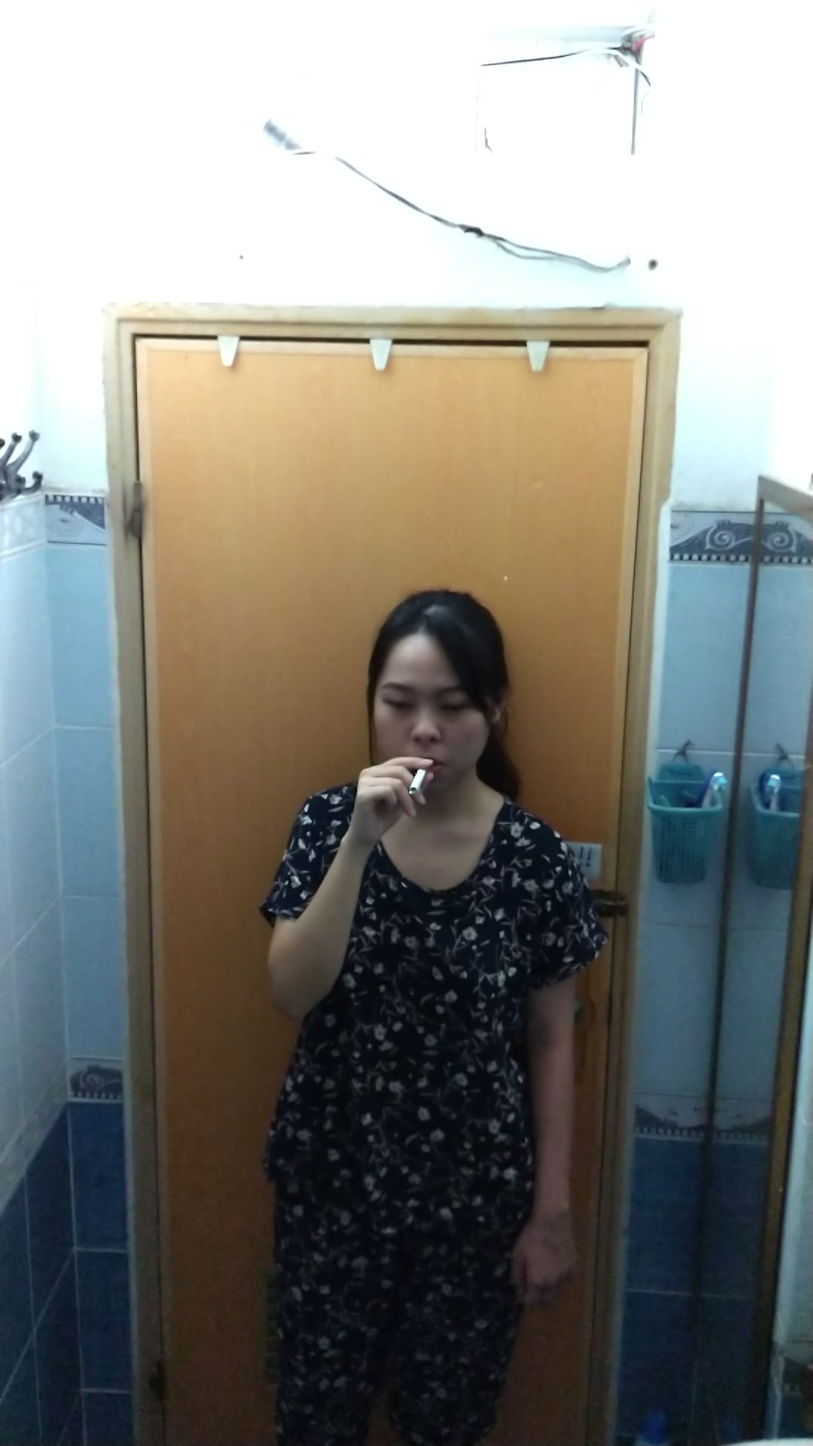cigarette: (404, 767, 431, 797)
person: (255, 576, 613, 1446)
